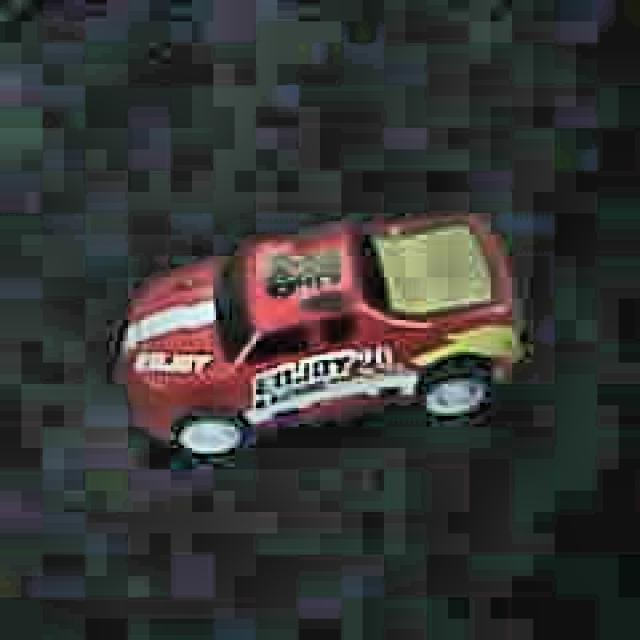car: (105, 207, 537, 458)
